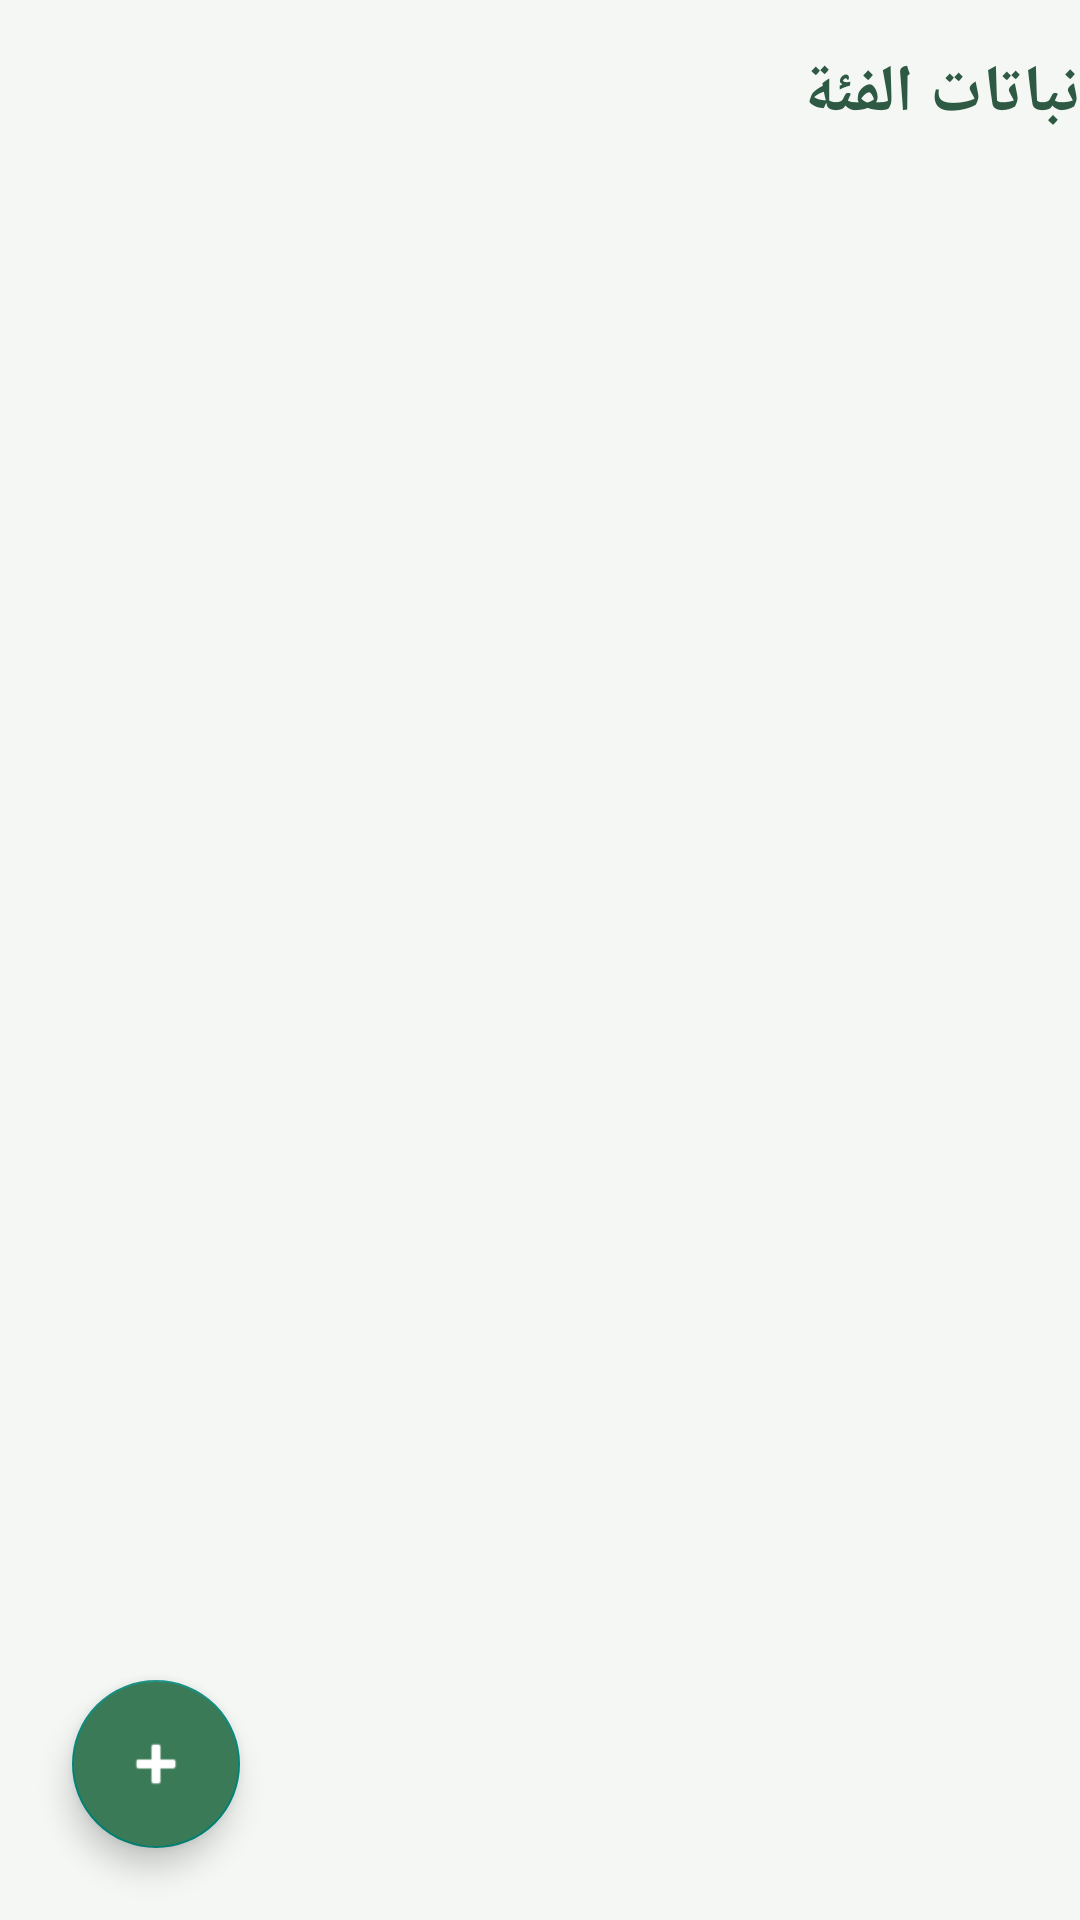

Point at icon controls on the screen. Image size 1080×1920, points as point (x, y).
إضافة نبتة: point (156, 1764)
